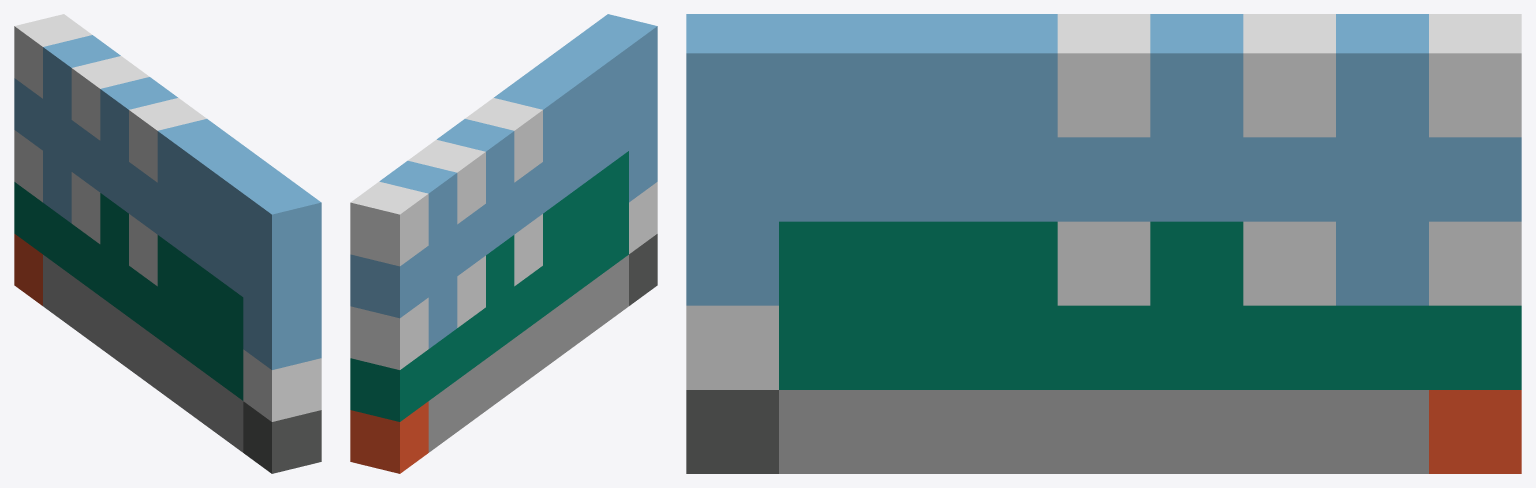
Rendered from pc-glass.obj.
3 views of the same model, side by side, from view 1: azimuth 30°, elevation 25°; view 2: azimuth 150°, elevation 25°; view 3: azimuth 270°, elevation 25° (orthographic). The views are drawn at different scales.
Bounding box in the file's own units: 0.1 × 0.5 × 0.9.
Materials: 1 (1 with a texture image).
